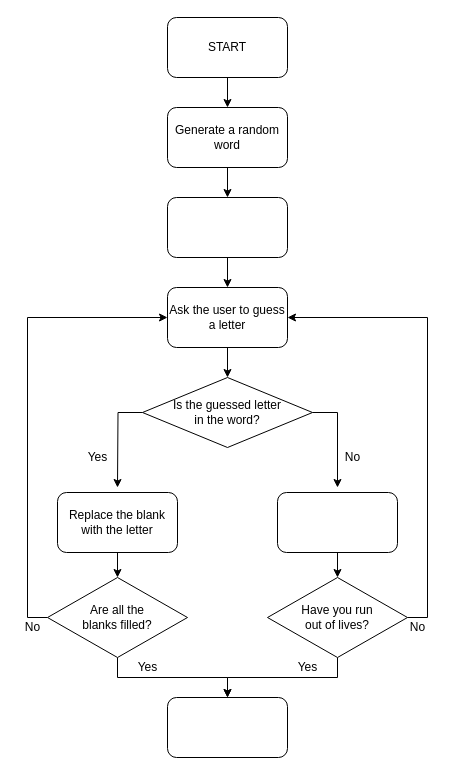
Some shapes in this 453 by 775 pixel diagram are drawn without their labels. Here are the shapes that lost their labels. From the top down, the centre of each, then its label:
point 227,227: Generate as many blanks as letters in word
point 337,522: Lose a life
point 227,727: Game over
